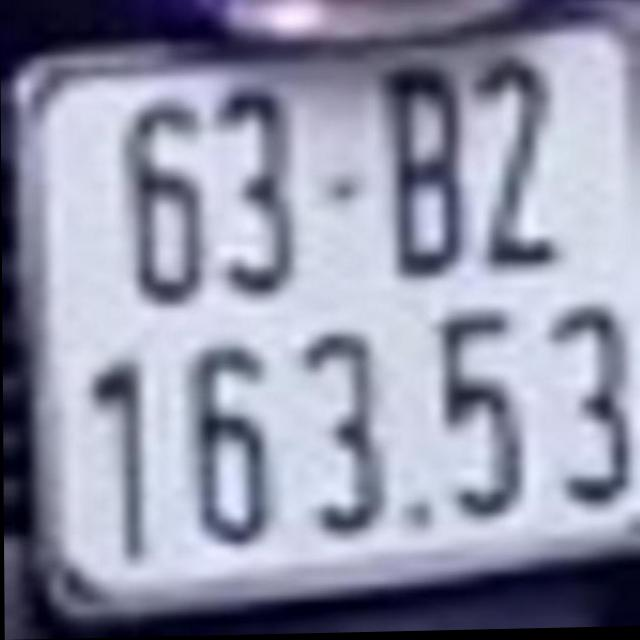1: (90, 353, 152, 563)
2: (468, 53, 567, 265)
3: (544, 291, 637, 513), (213, 82, 304, 295), (302, 314, 386, 539)
5: (441, 296, 526, 521)
6: (119, 81, 206, 305), (193, 336, 268, 545)
B: (382, 62, 466, 277)
